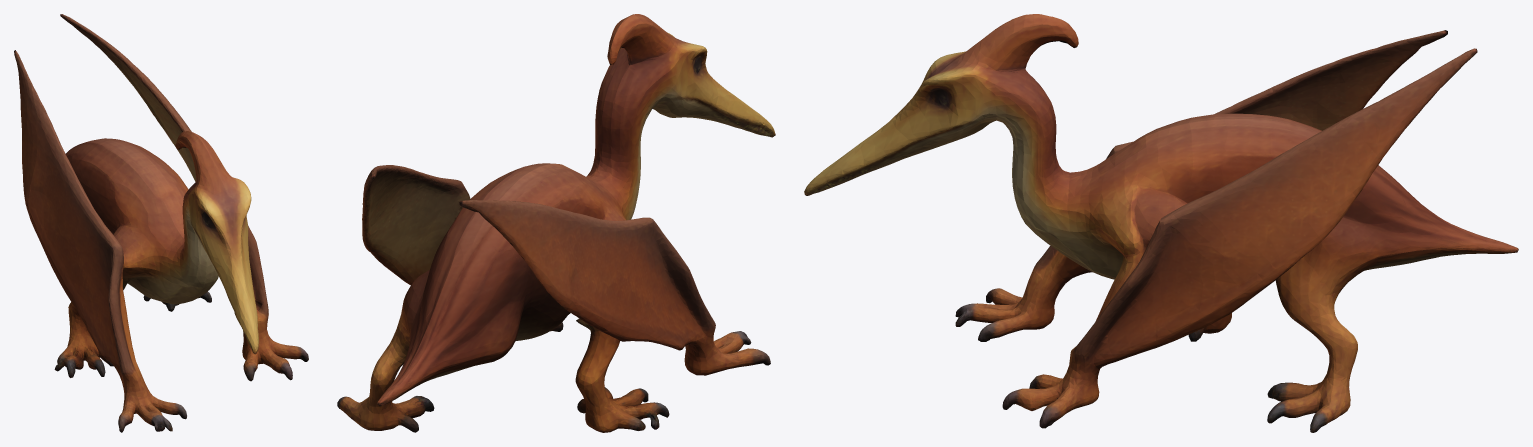
The picture shows the model from 3 angles, left to right: view 1: azimuth 30°, elevation 25°; view 2: azimuth 150°, elevation 25°; view 3: azimuth 270°, elevation 25°; orthographic projection. The views are drawn at different scales.
Parts seen in each view (by area): view 1: geometry_0; view 2: geometry_0; view 3: geometry_0.
Part boxes in pixels (box(x1,y1,x2,y2)): geometry_0: box(14, 14, 308, 432); geometry_0: box(337, 14, 775, 432); geometry_0: box(804, 14, 1518, 432).
Size of the model in its own units: 0.2436 by 0.2851 by 0.53.
Materials: 1 (1 with a texture image).
